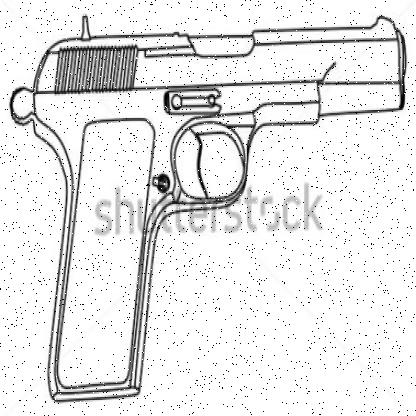pistol: (7, 3, 401, 400)
